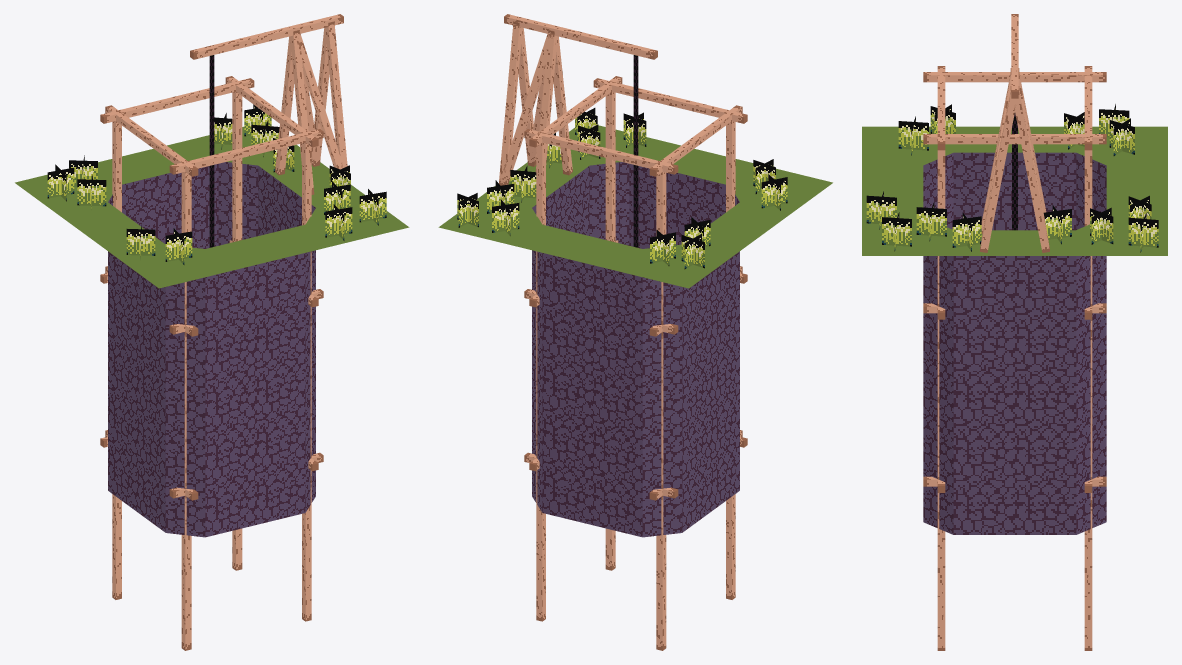
Rendered from mineshaft.glb.
3 views of the same model, side by side, from view 1: azimuth 30°, elevation 25°; view 2: azimuth 150°, elevation 25°; view 3: azimuth 270°, elevation 25° (orthographic). The views are drawn at different scales.
Parts seen in each view (by area): view 1: mineshaft; view 2: mineshaft; view 3: mineshaft.
Boxes of the visible parts, box(x1,y1,x2,y2) form: mineshaft: box(15, 14, 409, 650); mineshaft: box(438, 14, 832, 650); mineshaft: box(862, 14, 1167, 650).
Size of the model in its own units: 10.2 by 21.43 by 10.
1 material, 1 textured.
